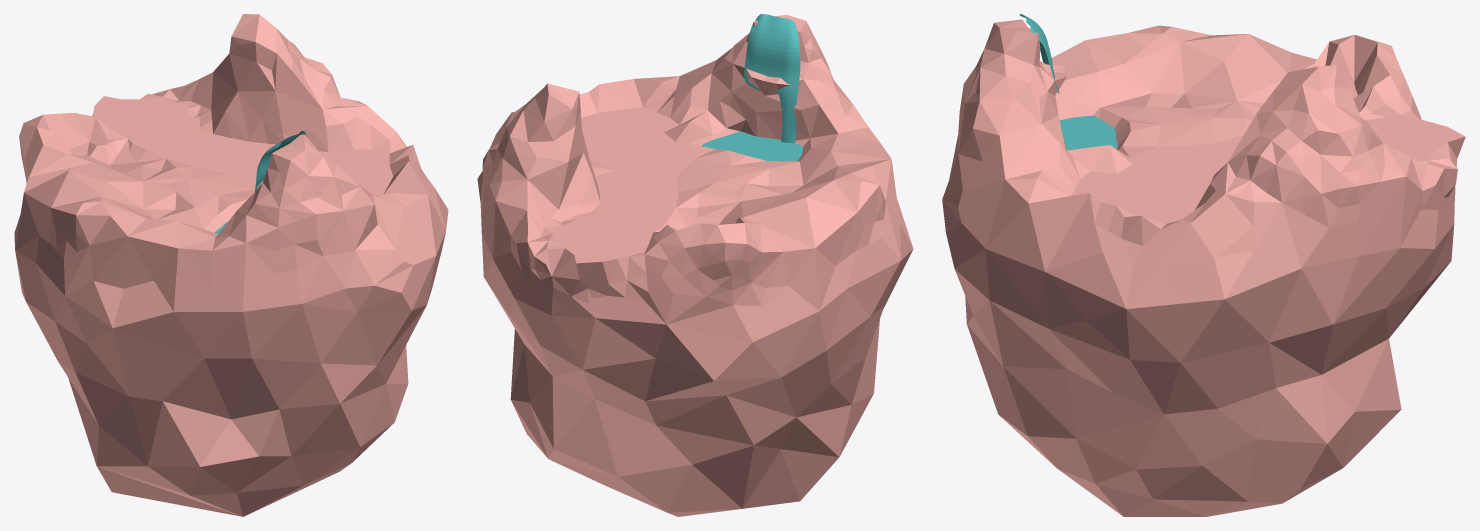
File: newLevel.fbx
The picture shows the model from 3 angles, left to right: view 1: azimuth 30°, elevation 25°; view 2: azimuth 150°, elevation 25°; view 3: azimuth 270°, elevation 25°; orthographic projection. The views are drawn at different scales.
Visible parts, largest first — view 1: Plane.001; view 2: Plane.001; view 3: Plane.001.
Boxes of the visible parts, x1,y1,x2,y2 form: Plane.001: (14,14,448,516); Plane.001: (477,14,913,516); Plane.001: (942,14,1465,516).
Bounding box in the file's own units: 19433 × 20261 × 20901.
